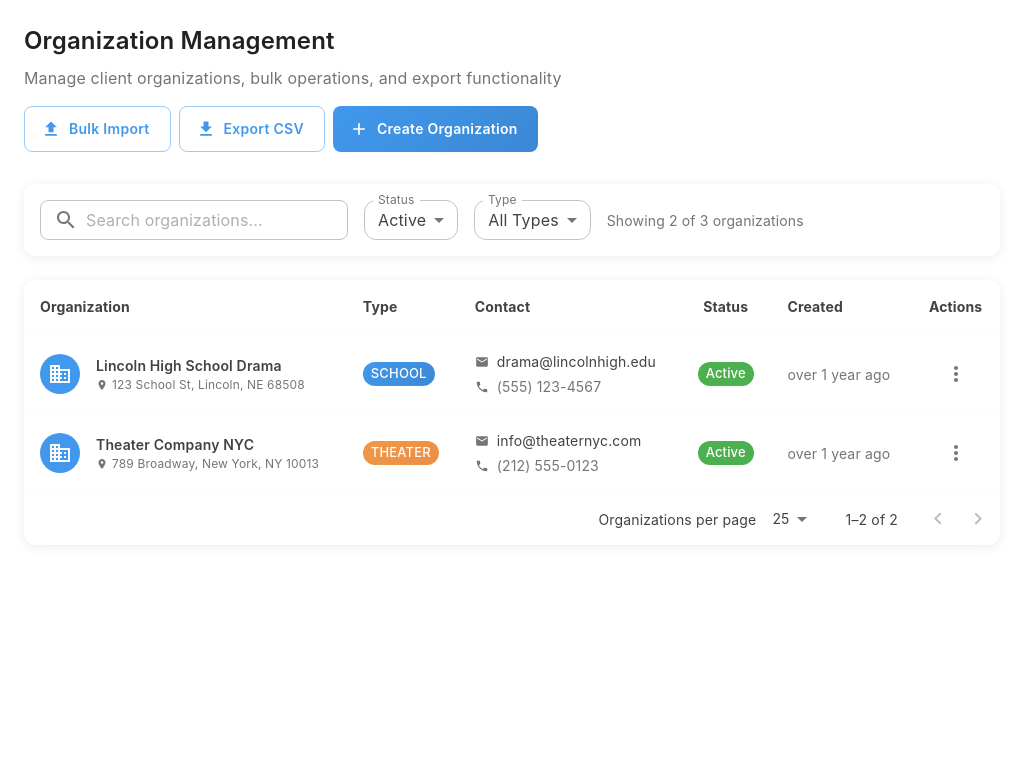
OrganizationManagement › Bulk Import › opens bulk import dialog when bulk import button is clicked
The image size is (1024, 768).
Click the button "Bulk Import": (97, 129) x1=24 y1=106 x2=170 y2=152
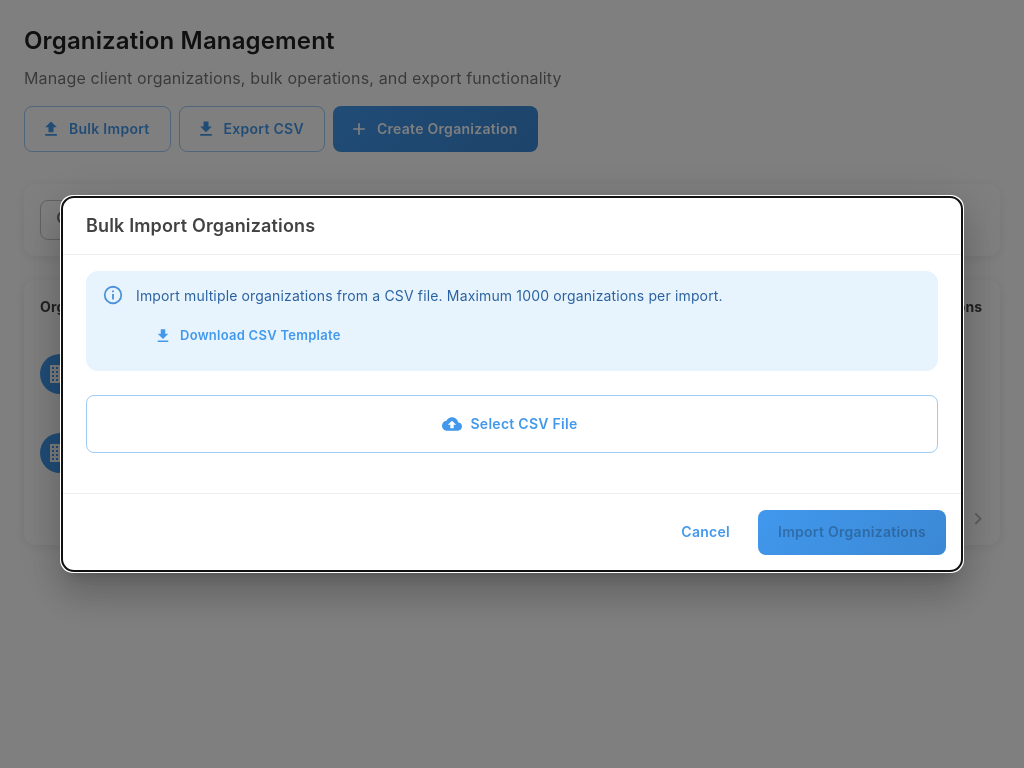
Now the heading "Bulk Import Organizations" is shown, box x1=86 y1=215 x2=315 y2=236
Now the dialog is shown, box x1=62 y1=197 x2=962 y2=571
